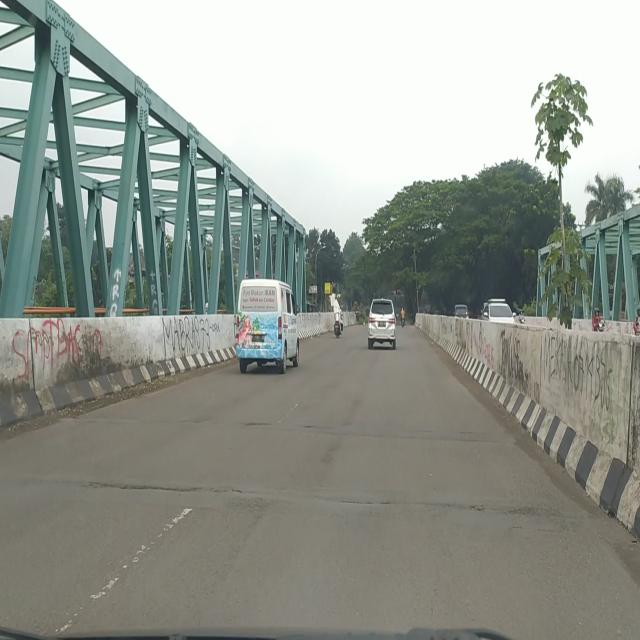Sewer Cover: (309, 494, 546, 517), (39, 476, 262, 492), (296, 423, 347, 432), (415, 429, 496, 434), (244, 422, 272, 427)
